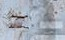Exposed reinforcement: (7, 24, 30, 30), (10, 13, 28, 20)
